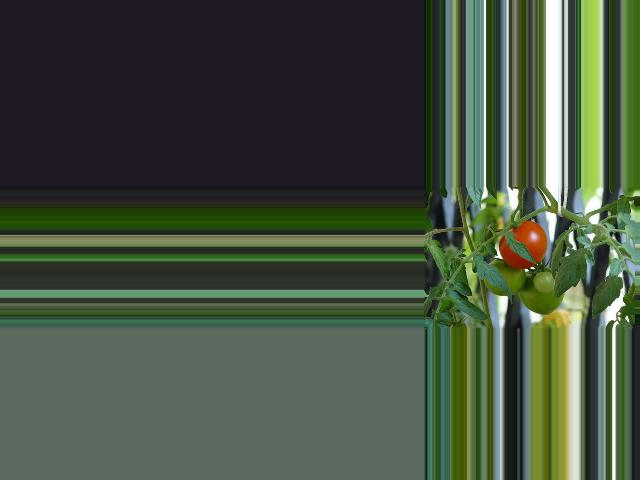tomato: (499, 220, 548, 268)
